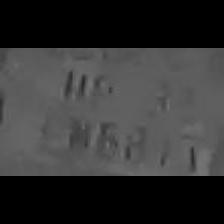2: (92, 114, 119, 160)
4: (152, 124, 174, 168)
9: (122, 118, 146, 164)
U: (176, 136, 200, 174)
